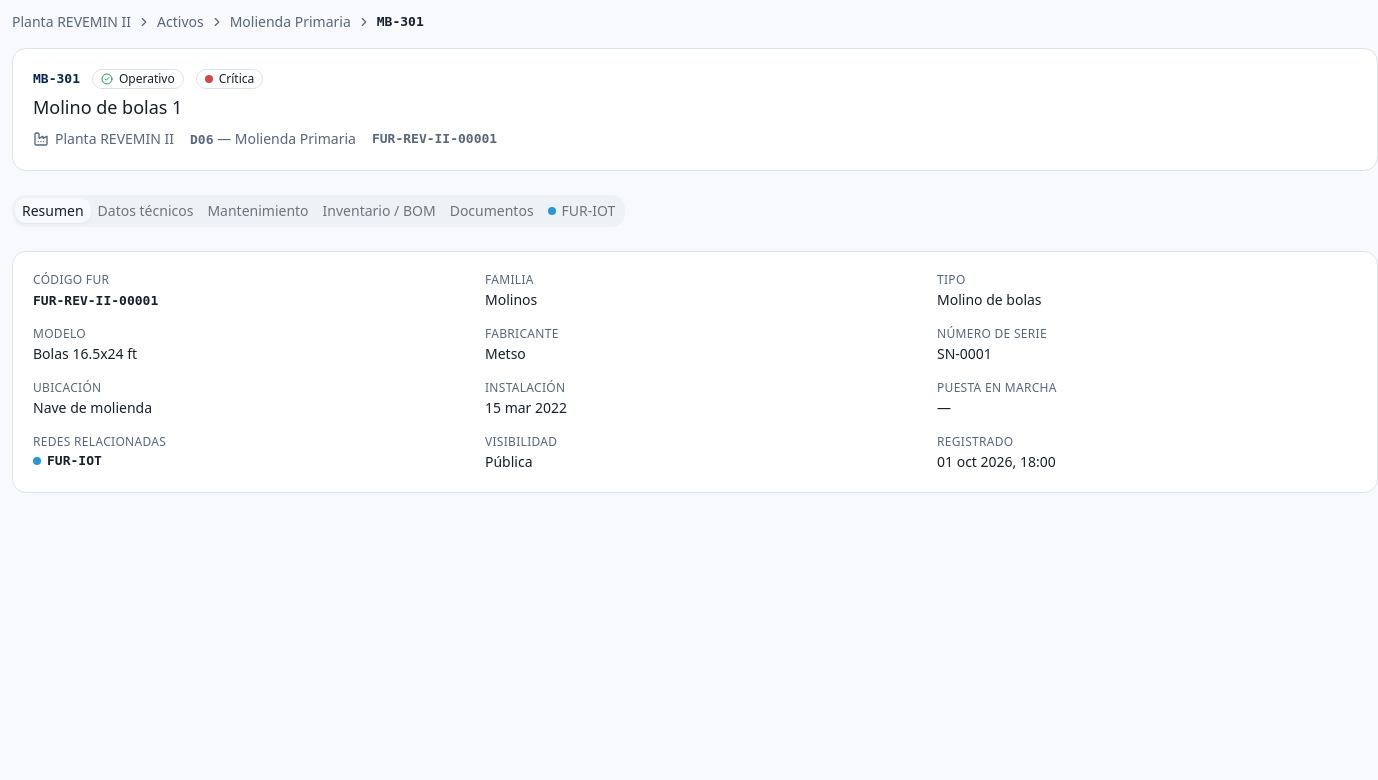
Test: Ficha FUR del activo › Inventario / BOM › repuestos compatibles con alerta de mínimo (texto, no solo color) y lo consumido con su costo
The width and height of the screenshot is (1378, 780).
Step 1. Click the tab "Inventario / BOM" → click(379, 211), box [316,198,443,223]
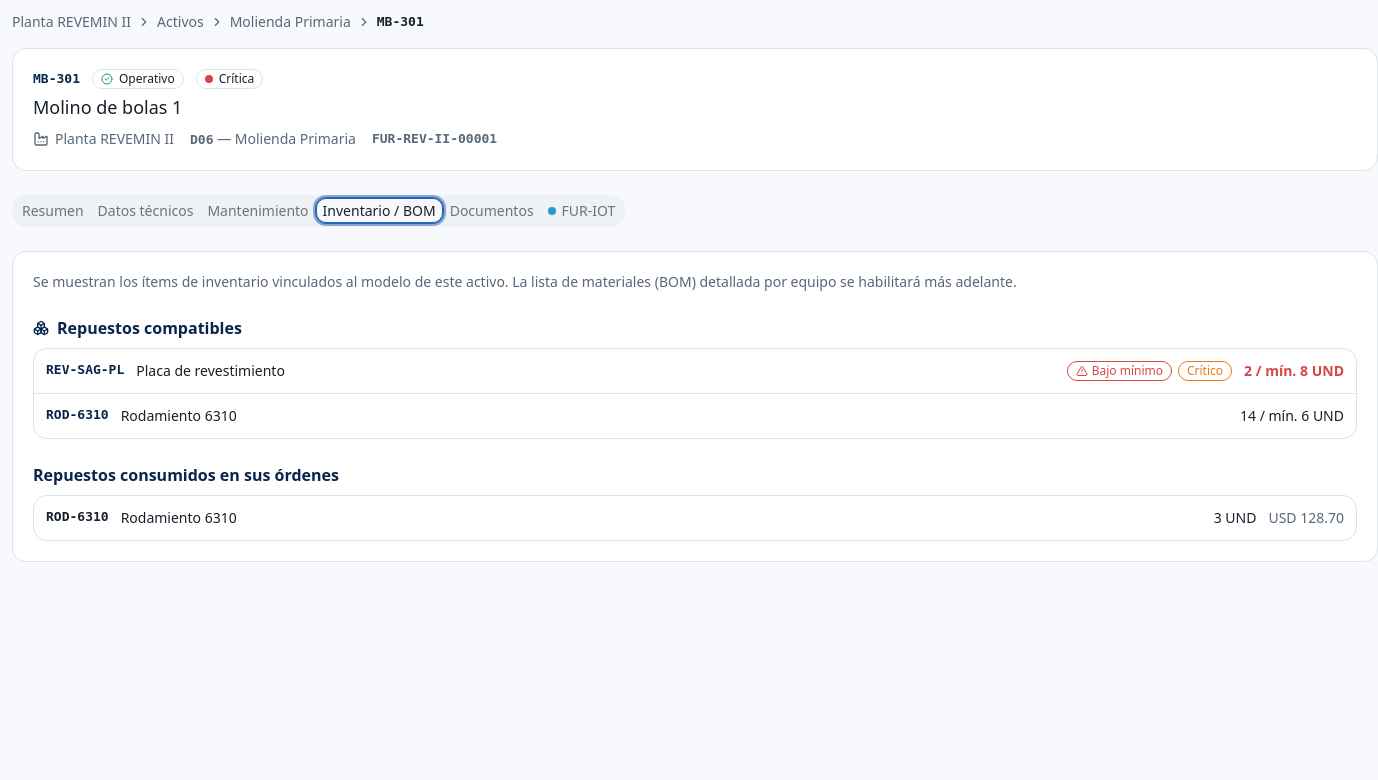
Expected: the text "Bajo mínimo" is shown, [1067,361,1172,381]
Expected: the icon "Crítico" is shown, [1178,361,1232,381]
Expected: the text "USD 128.70" is shown, [1268,508,1344,528]
